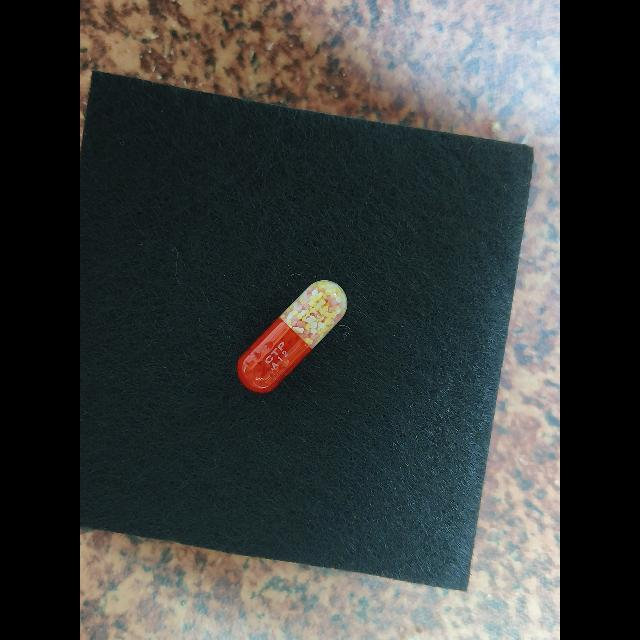Intact Capsule: (237, 280, 347, 393)
